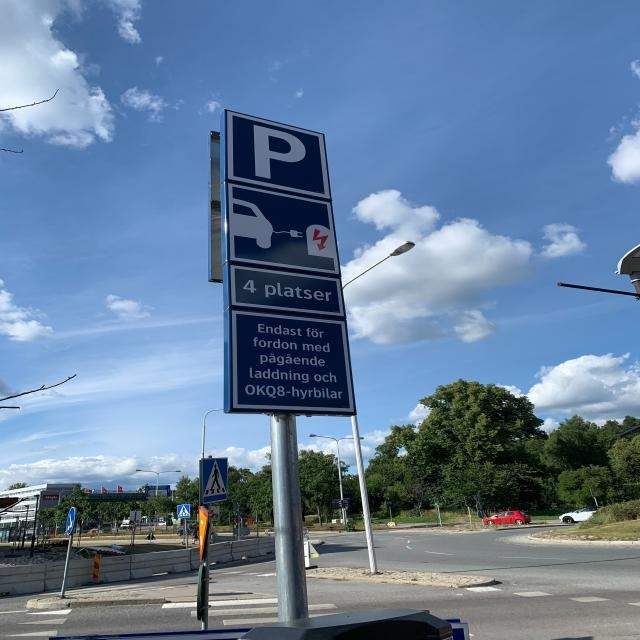lastplats: (228, 110, 330, 198)
